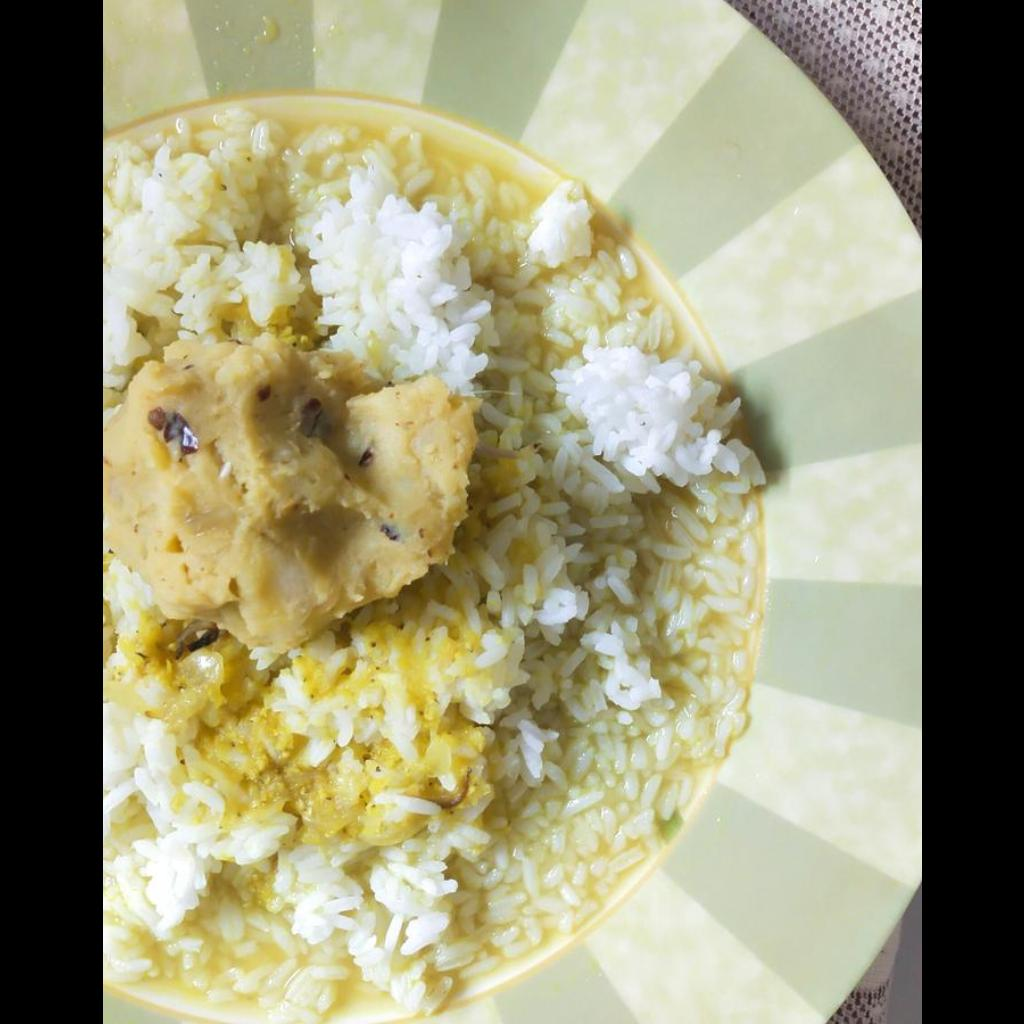potato-mashed: (102, 332, 461, 654)
rice: (102, 98, 764, 1023)
